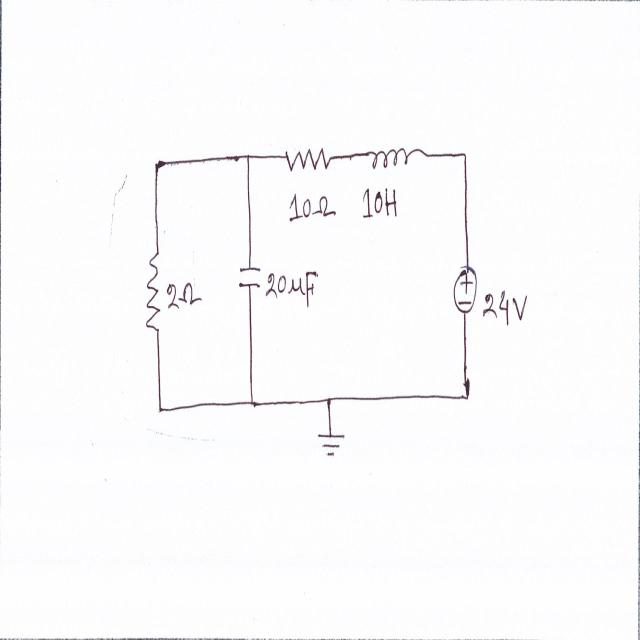capacitor: (236, 263, 263, 291)
ground: (317, 427, 348, 467)
inductor: (366, 144, 421, 176)
resistor: (284, 141, 331, 180), (145, 248, 162, 336)
voltage_source: (452, 264, 478, 320)
